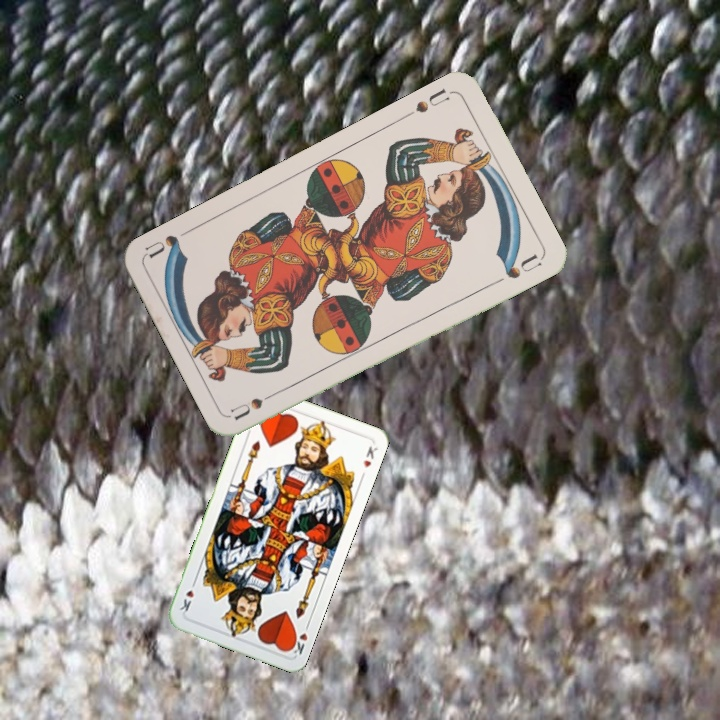HK: (285, 618, 312, 657)
SU: (228, 385, 284, 423), (411, 84, 452, 116)
